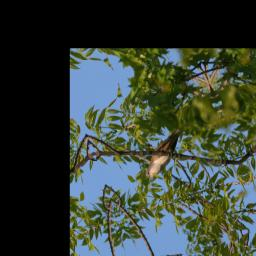Cuckoo: (134, 127, 197, 183)
